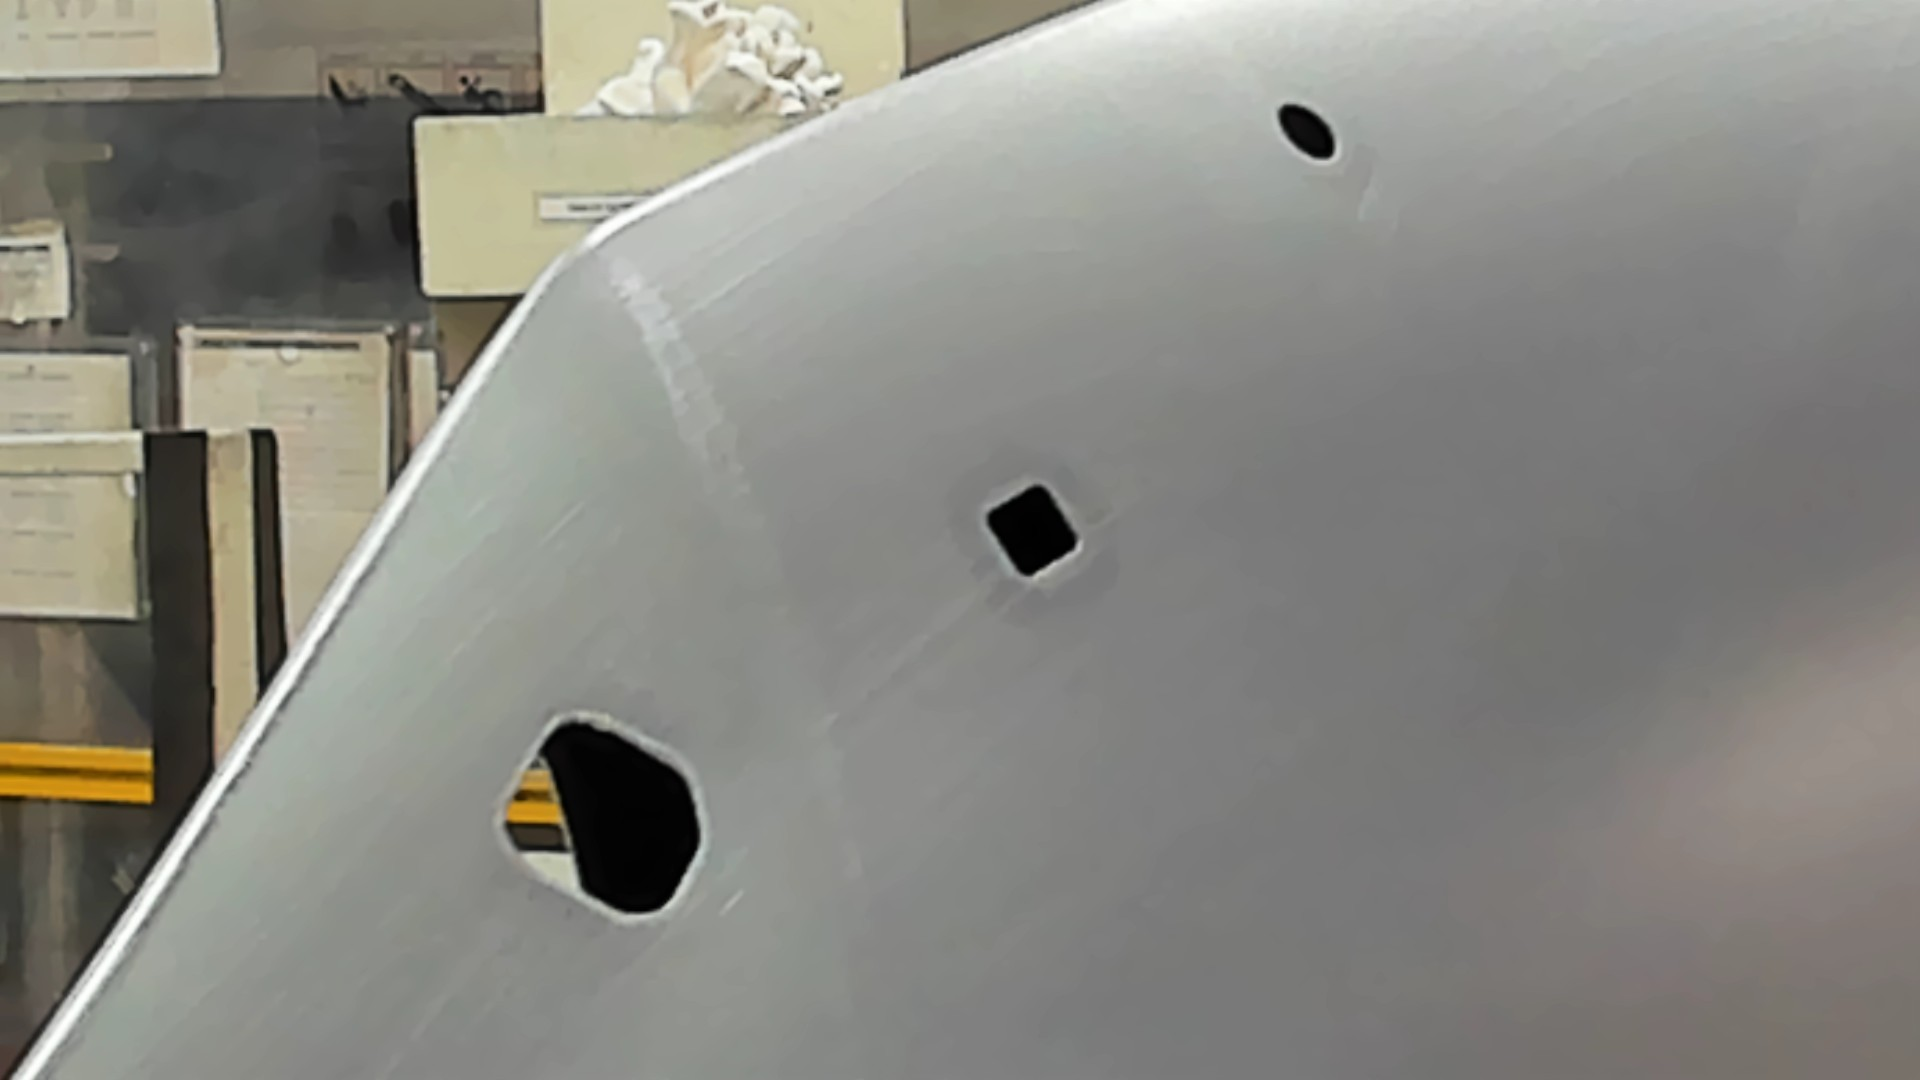chico: (1273, 100, 1338, 167)
grande: (488, 703, 705, 924)
mediano: (980, 477, 1084, 589)
